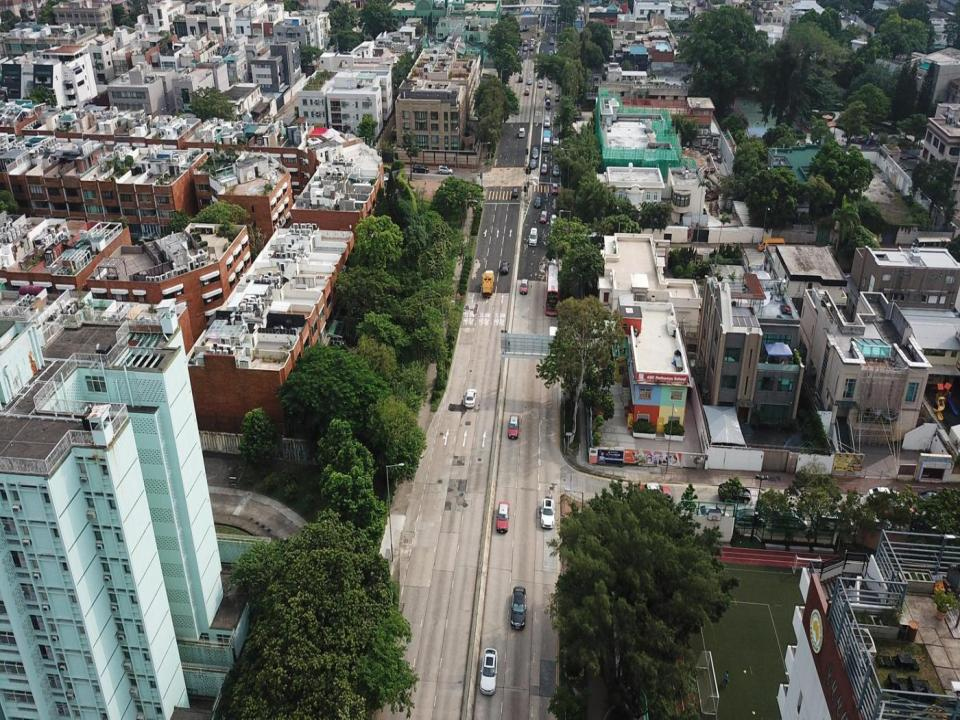bus: (545, 264, 560, 317)
car: (478, 648, 497, 694), (510, 586, 528, 628), (718, 484, 752, 504), (734, 509, 766, 530), (693, 504, 730, 522), (636, 482, 672, 499), (867, 486, 901, 504), (916, 491, 951, 508), (540, 496, 556, 528), (496, 500, 509, 532), (508, 415, 519, 440), (465, 388, 476, 408), (412, 162, 428, 174), (519, 277, 527, 294), (500, 260, 509, 274), (438, 166, 453, 174), (549, 214, 557, 227), (534, 196, 541, 209), (552, 163, 559, 176), (540, 209, 546, 223), (512, 186, 518, 200), (530, 157, 536, 169), (518, 25, 528, 32), (553, 135, 559, 146), (542, 162, 547, 174), (554, 92, 560, 102), (552, 183, 557, 194), (533, 147, 538, 158), (547, 80, 552, 90), (524, 88, 530, 95), (539, 78, 543, 86), (550, 36, 554, 44), (527, 78, 532, 84), (524, 45, 528, 50), (524, 40, 528, 45), (529, 44, 533, 49)
truck: (543, 129, 551, 151)
van: (771, 510, 807, 531), (548, 325, 559, 354), (527, 226, 537, 246), (544, 88, 550, 101), (518, 126, 524, 137), (545, 98, 551, 108), (544, 117, 550, 126), (551, 14, 555, 22), (530, 37, 534, 44)
